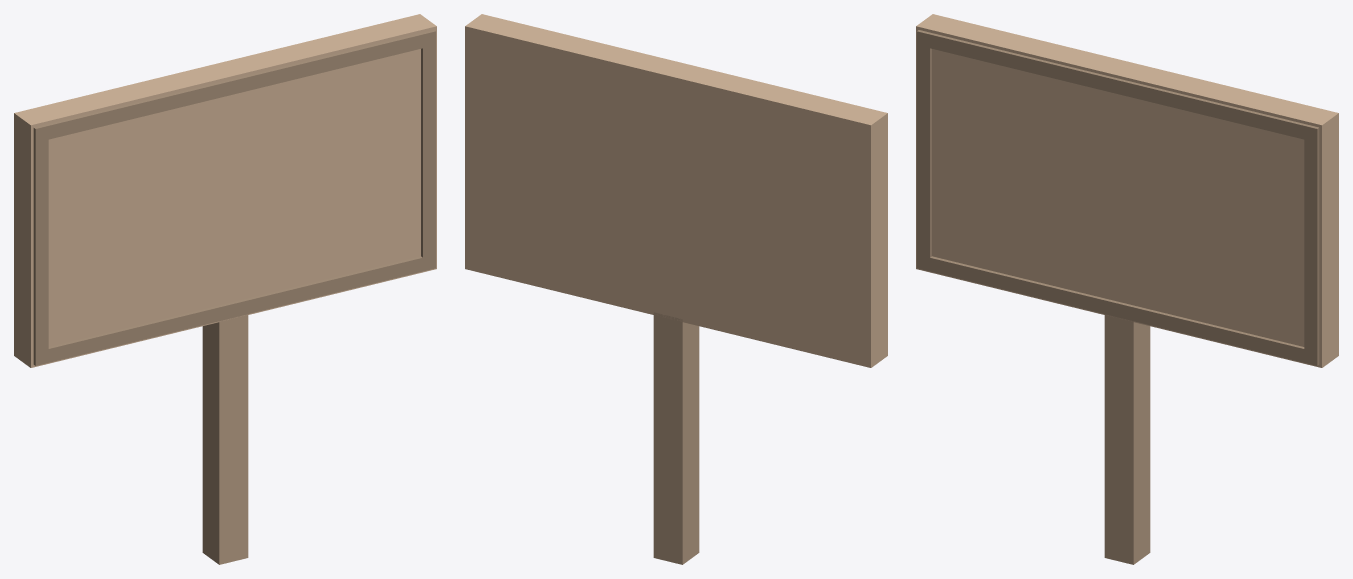
Rendered from sign_jungle_stand.gltf.
The picture shows the model from 3 angles, left to right: view 1: azimuth 30°, elevation 25°; view 2: azimuth 150°, elevation 25°; view 3: azimuth 330°, elevation 25°; orthographic projection.
Parts seen in each view (by area): view 1: sign_jungle_stand; view 2: sign_jungle_stand; view 3: sign_jungle_stand.
Part boxes in pixels (x1,y1,x2,y2): sign_jungle_stand: (14,14,436,564); sign_jungle_stand: (465,14,887,564); sign_jungle_stand: (916,14,1338,564).
Bounding box in the file's own units: 0.875 × 1 × 0.07.
